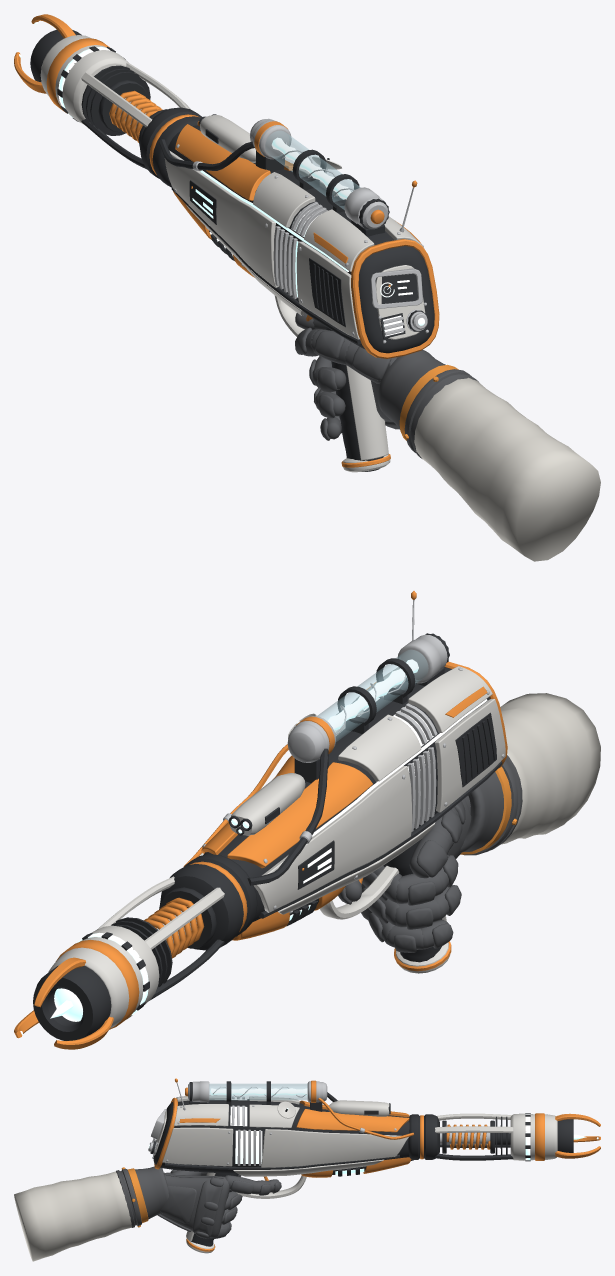
Rendered from multitool.glb.
3 views of the same model, one above another, from view 1: azimuth 30°, elevation 25°; view 2: azimuth 150°, elevation 25°; view 3: azimuth 270°, elevation 25° (orthographic). The views are drawn at different scales.
Parts seen in each view (by area): view 1: Multitool, Hand; view 2: Multitool, Hand; view 3: Multitool, Hand.
Boxes of the visible parts, <box> form: Multitool: <box>14,14,439,472</box>; Hand: <box>295,313,600,561</box>; Multitool: <box>14,591,507,1049</box>; Hand: <box>338,693,600,952</box>; Multitool: <box>148,1078,600,1253</box>; Hand: <box>14,1166,281,1261</box>.
Bounding box in the file's own units: 0.1361 × 0.2899 × 0.8533.
